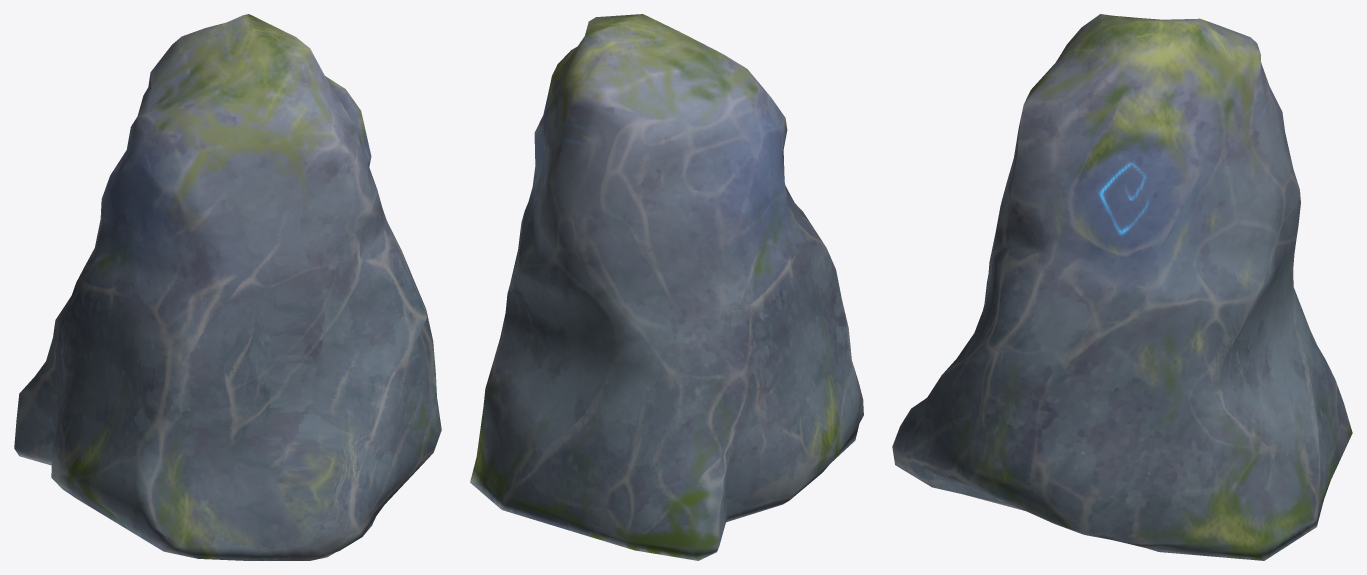
Rendered from l1-stone.glb.
The picture shows the model from 3 angles, left to right: view 1: azimuth 30°, elevation 25°; view 2: azimuth 150°, elevation 25°; view 3: azimuth 270°, elevation 25°; orthographic projection. The views are drawn at different scales.
Parts seen in each view (by area): view 1: lowpolyLOD1100; view 2: lowpolyLOD1100; view 3: lowpolyLOD1100.
Part boxes in pixels (x1,y1,x2,y2): lowpolyLOD1100: (14, 14, 441, 560); lowpolyLOD1100: (470, 14, 863, 560); lowpolyLOD1100: (892, 14, 1352, 560).
Bounding box in the file's own units: 1.68 × 2.21 × 1.89.
1 material, 1 textured.
